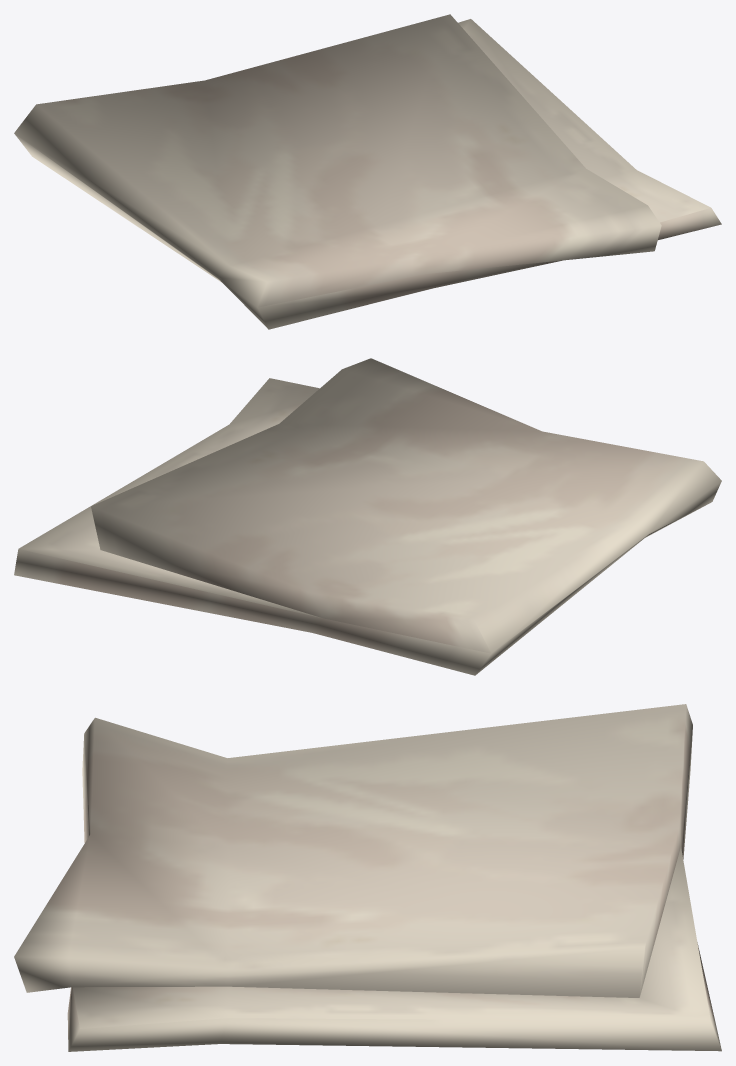
The model's file is SM_PROP_napking_city_02.fbx.
The picture shows the model from 3 angles, top to bottom: view 1: azimuth 30°, elevation 25°; view 2: azimuth 150°, elevation 25°; view 3: azimuth 270°, elevation 25°; orthographic projection. The views are drawn at different scales.
Parts seen in each view (by area): view 1: SM_PROP_napking_city_02; view 2: SM_PROP_napking_city_02; view 3: SM_PROP_napking_city_02.
Boxes of the visible parts, <box> form: SM_PROP_napking_city_02: <box>14,14,721,329</box>; SM_PROP_napking_city_02: <box>14,358,721,675</box>; SM_PROP_napking_city_02: <box>14,704,721,1051</box>.
Size of the model in its own units: 26.32 by 3.13 by 26.96.
